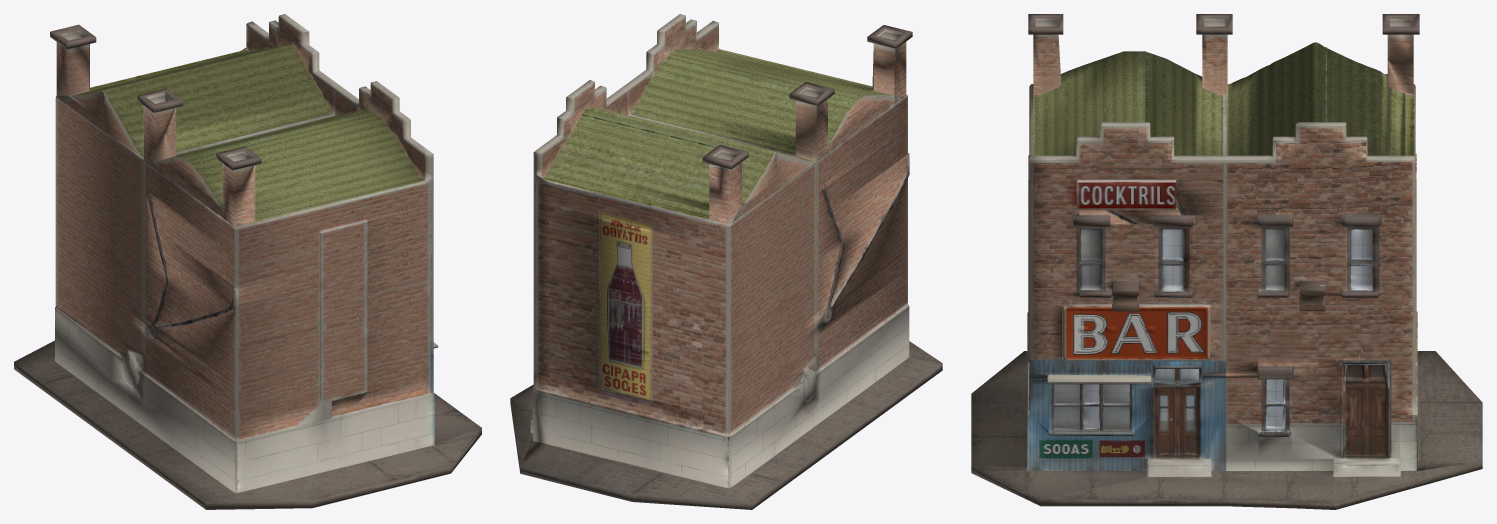
File: tripo_convert_eab56514-4d58-4a65-99f9-3fed5a5af1ef.fbx
3 views of the same model, side by side, from view 1: azimuth 30°, elevation 25°; view 2: azimuth 150°, elevation 25°; view 3: azimuth 270°, elevation 25° (orthographic). The views are drawn at different scales.
Visible parts, largest first — view 1: tripo_node_eab56514; view 2: tripo_node_eab56514; view 3: tripo_node_eab56514.
Part boxes in pixels (x1,y1,x2,y2): tripo_node_eab56514: (14,14,481,509); tripo_node_eab56514: (510,14,942,509); tripo_node_eab56514: (971,14,1482,509).
Size of the model in its own units: 0.7025 by 0.7789 by 1.
